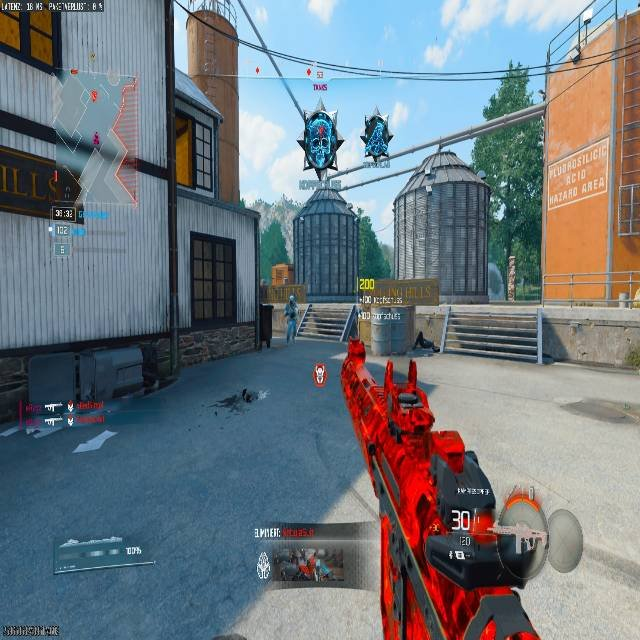head: (288, 293, 297, 304)
player: (300, 106, 340, 175), (360, 112, 392, 165), (282, 294, 300, 346), (300, 304, 314, 330)
